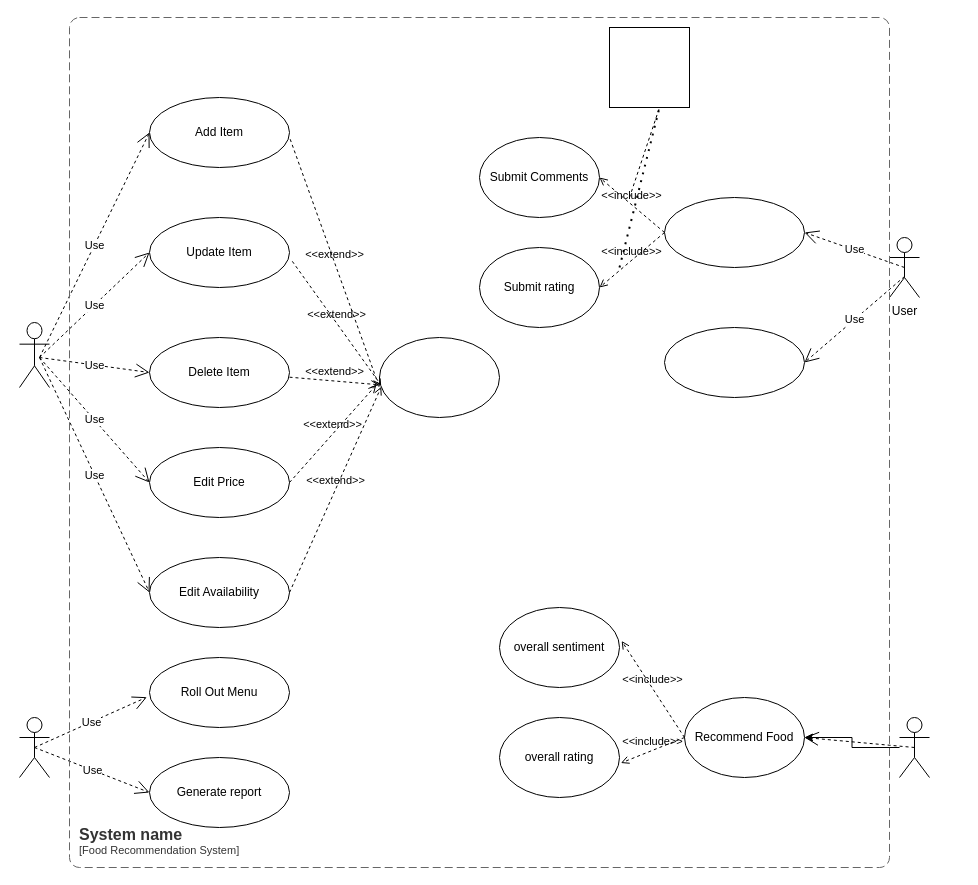
Some shapes in this 978 by 885 pixel diagram are drawn without their labels. The centre of each missing label's shape, as x and y in pixels:
"Admin" goes at (34,355).
"Chef" goes at (34,747).
"Give feedback" goes at (734,232).
"If already not submitted for food" goes at (649,67).
"Notify user" goes at (439,377).
"Recommendation System" goes at (914,747).
"Vote for item among chef recommendation" goes at (734,362).
